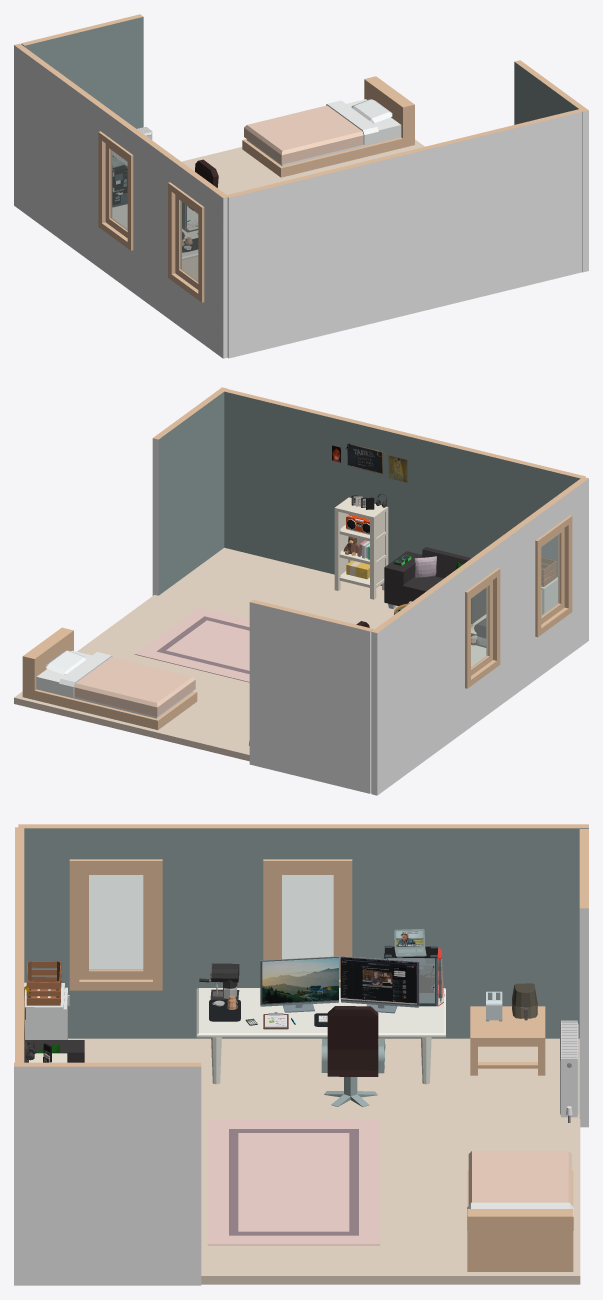
Rendered from munich.glb.
3 renders of one model, top to bottom at view 1: azimuth 30°, elevation 25°; view 2: azimuth 150°, elevation 25°; view 3: azimuth 270°, elevation 25°, orthographic. The views are drawn at different scales.
Visible parts, largest first — view 1: wall(Clone).003, wall(Clone).002, wallWindow(Clone), wallWindow(Clone).002, wall(Clone).001, cover.001, bedSingle(Clone), wall(Clone).004, floorFull(Clone).002, window, window.001, Table_Large_Rectangular_01_Circle.004 (+2 smaller); view 2: wall(Clone).003, wall(Clone).001, wall(Clone).002, wall(Clone).004, wallWindow(Clone), wallWindow(Clone).002, floorFull(Clone).008, cover.001, rugRectangle(Clone), floorFull(Clone).002, bedSingle(Clone), floorFull(Clone).004 (+8 smaller); view 3: wall(Clone).004, wall(Clone).002, wallWindow(Clone), rugRectangle(Clone), wallWindow(Clone).002, floorFull(Clone).001, floorFull(Clone), floorFull(Clone).002, floorFull(Clone).003, floorFull(Clone).004, window, Table_Large_Rectangular_01_Circle.004 (+18 smaller).
Part boxes in pixels (left/top/right/bottom): wall(Clone).003: left=225, top=108, right=583, bottom=358; wall(Clone).002: left=14, top=43, right=88, bottom=255; wallWindow(Clone): left=151, top=144, right=227, bottom=358; wallWindow(Clone).002: left=82, top=94, right=156, bottom=305; wall(Clone).001: left=21, top=14, right=143, bottom=128; cover.001: left=244, top=100, right=378, bottom=164; bedSingle(Clone): left=242, top=76, right=414, bottom=177; wall(Clone).004: left=514, top=60, right=588, bottom=272; floorFull(Clone).002: left=181, top=147, right=305, bottom=194; window: left=175, top=194, right=198, bottom=289; window.001: left=105, top=144, right=127, bottom=237; Table_Large_Rectangular_01_Circle.004: left=112, top=204, right=198, bottom=260; wall(Clone).003: left=222, top=388, right=585, bottom=585; wall(Clone).001: left=249, top=599, right=373, bottom=793; wall(Clone).002: left=371, top=581, right=446, bottom=795; wall(Clone).004: left=152, top=387, right=227, bottom=595; wallWindow(Clone): left=511, top=477, right=588, bottom=693; wallWindow(Clone).002: left=441, top=530, right=516, bottom=744; floorFull(Clone).008: left=153, top=547, right=334, bottom=619; cover.001: left=59, top=652, right=195, bottom=716; rugRectangle(Clone): left=134, top=607, right=249, bottom=682; floorFull(Clone).002: left=134, top=676, right=249, bottom=761; bedSingle(Clone): left=22, top=627, right=197, bottom=729; floorFull(Clone).004: left=84, top=596, right=246, bottom=675; wall(Clone).004: left=14, top=1062, right=201, bottom=1285; wall(Clone).002: left=401, top=824, right=588, bottom=1038; wallWindow(Clone): left=18, top=824, right=213, bottom=1038; rugRectangle(Clone): left=207, top=1120, right=380, bottom=1245; wallWindow(Clone).002: left=214, top=824, right=401, bottom=1038; floorFull(Clone).001: left=393, top=1038, right=579, bottom=1117; floorFull(Clone): left=205, top=1038, right=392, bottom=1117; floorFull(Clone).002: left=393, top=1117, right=580, bottom=1196; floorFull(Clone).003: left=393, top=1196, right=580, bottom=1284; floorFull(Clone).004: left=205, top=1196, right=392, bottom=1284; window: left=79, top=869, right=152, bottom=979; Table_Large_Rectangular_01_Circle.004: left=196, top=988, right=445, bottom=1084.
Bounding box in the file's own units: 3.08 × 1.29 × 3.07.
Materials: 165 (14 with a texture image).
